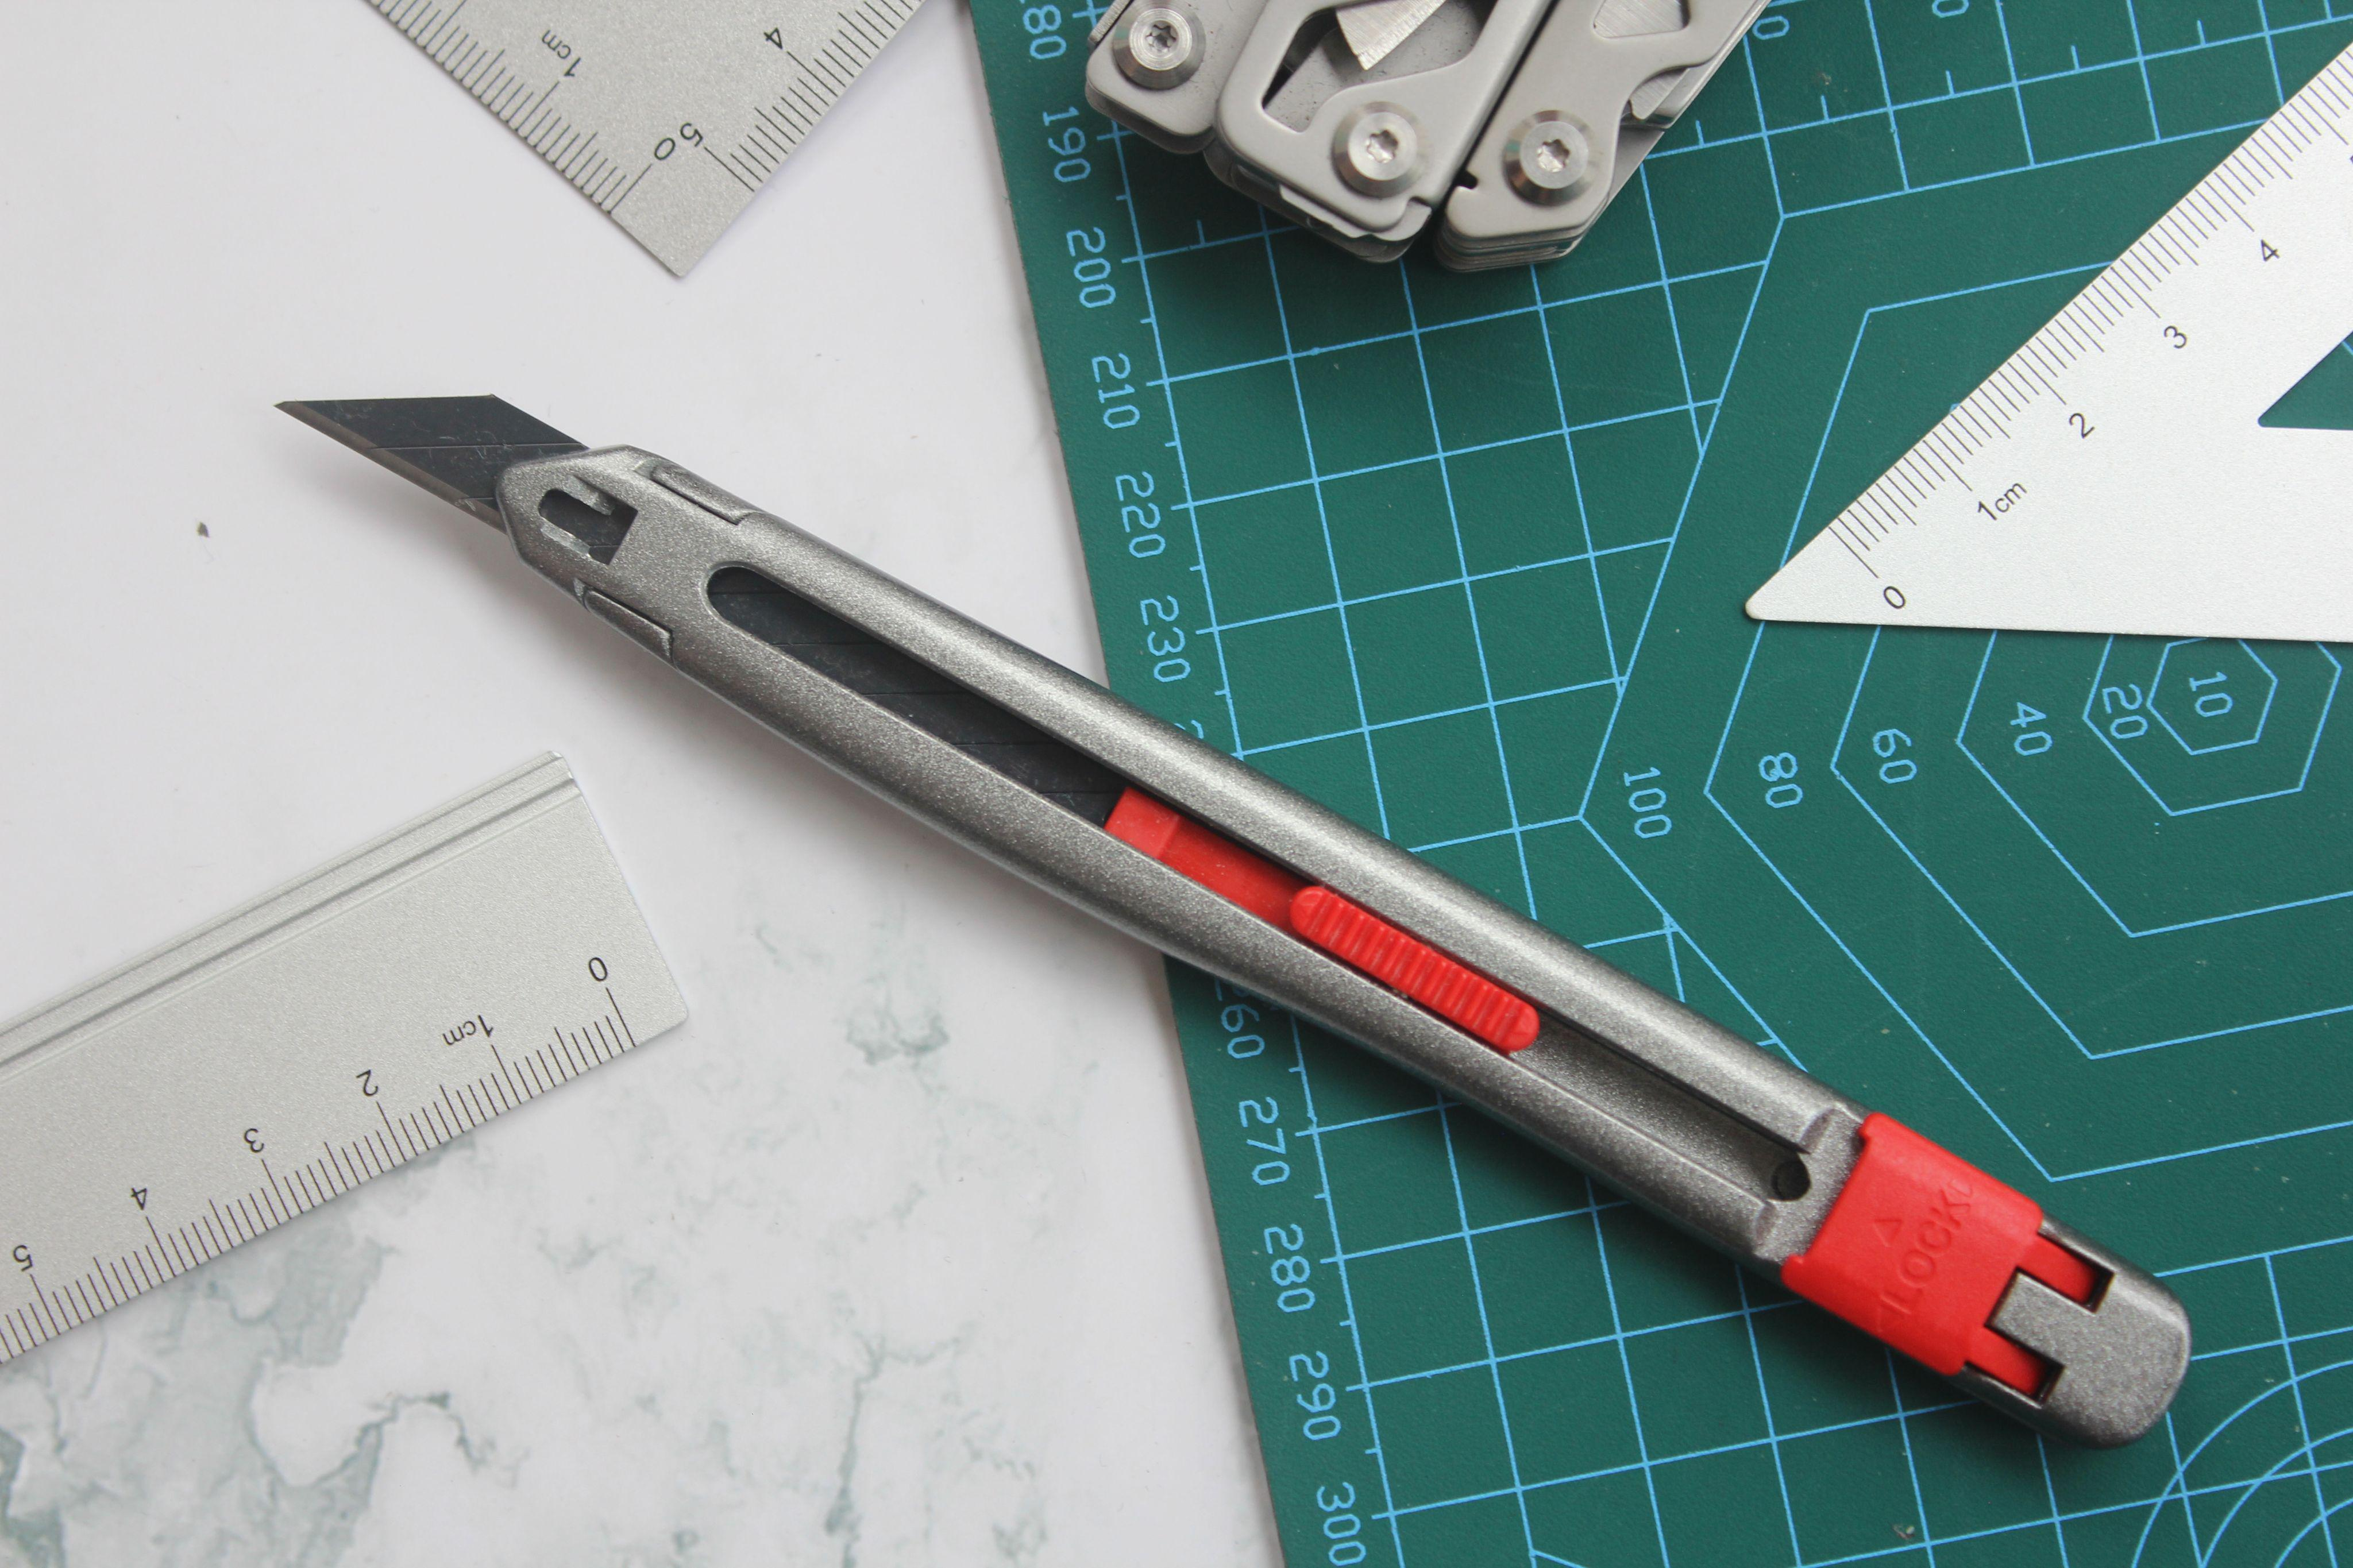cutter: (276, 392, 2190, 1447)
